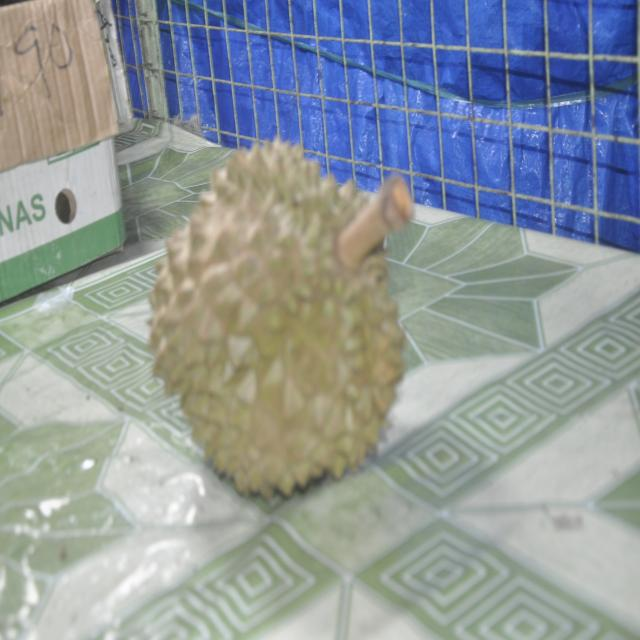mature: (149, 139, 411, 497)
